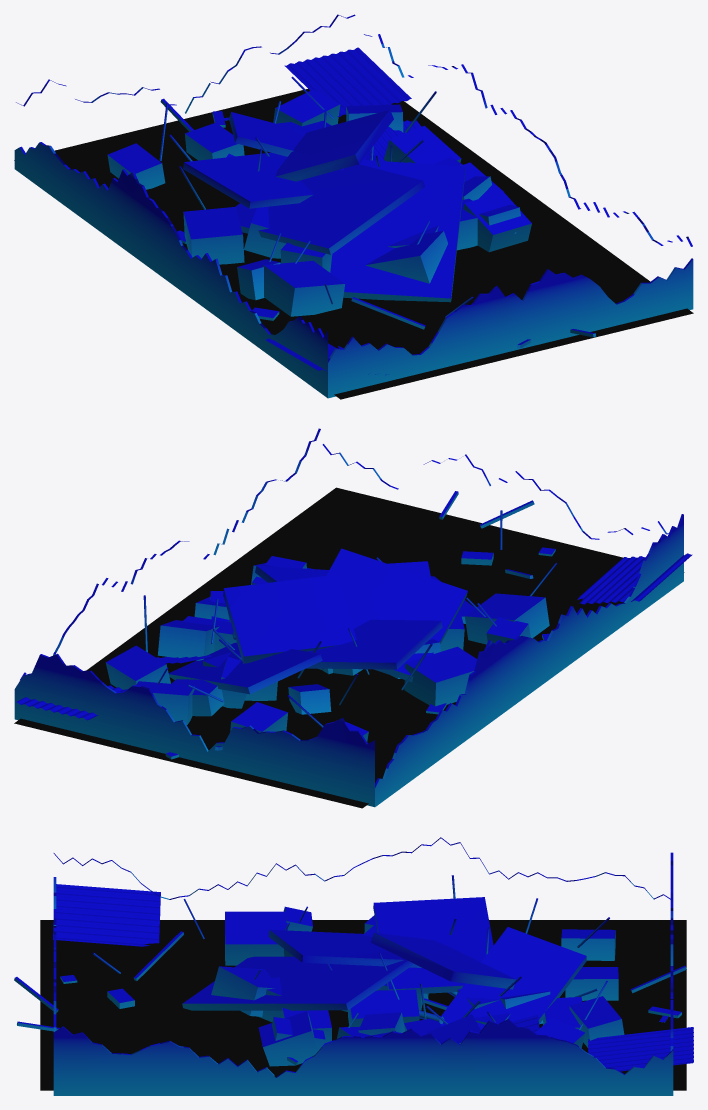
Rendered from l_residenceright_destroyed.glb.
The picture shows the model from 3 angles, top to bottom: view 1: azimuth 30°, elevation 25°; view 2: azimuth 150°, elevation 25°; view 3: azimuth 270°, elevation 25°; orthographic projection.
Visible parts, largest first — view 1: lod0; view 2: lod0; view 3: lod0.
Boxes of the visible parts, box(x1,y1,x2,y2) form: lod0: box(14, 14, 693, 399); lod0: box(14, 428, 692, 808); lod0: box(14, 837, 693, 1095).
Size of what is drawn, in the model's own units: 20.18 by 4.98 by 31.94.
